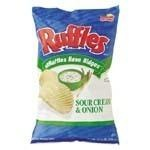grozi_117: (29, 4, 121, 146)
